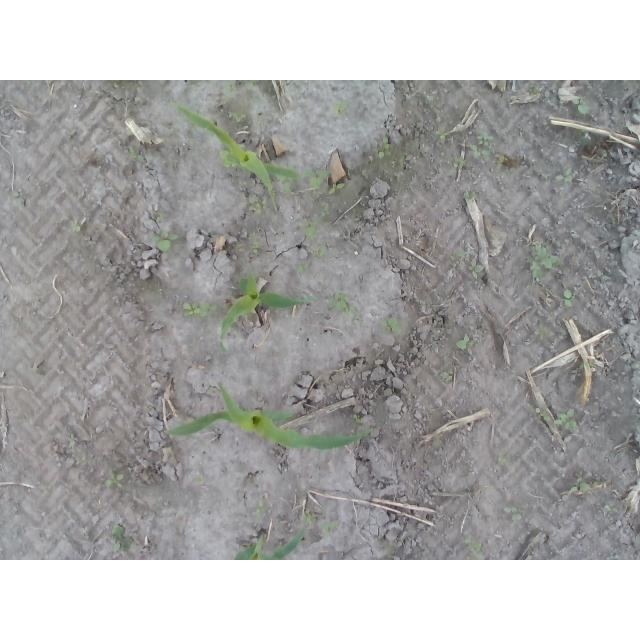Maize: (176, 102, 305, 216), (166, 382, 371, 451), (219, 275, 322, 349), (233, 528, 306, 561)
Weeds: (527, 242, 561, 282), (327, 292, 361, 320), (468, 131, 497, 162), (111, 522, 134, 553), (464, 530, 486, 558), (182, 303, 218, 320), (151, 232, 177, 255), (305, 169, 332, 188), (375, 134, 393, 161), (299, 219, 321, 241), (553, 408, 576, 429), (105, 468, 128, 489), (247, 228, 263, 257), (223, 80, 241, 105), (247, 198, 270, 217), (571, 96, 591, 116), (320, 521, 337, 544), (454, 333, 475, 351), (555, 166, 576, 184), (569, 478, 592, 494), (534, 320, 552, 339), (504, 505, 524, 522), (334, 99, 351, 118), (448, 153, 466, 169), (278, 176, 296, 192), (562, 287, 576, 307), (387, 319, 402, 336), (469, 263, 483, 281), (302, 511, 318, 526), (228, 111, 248, 123), (128, 147, 145, 161), (11, 190, 25, 206), (319, 204, 331, 222), (256, 500, 266, 520), (244, 80, 256, 96), (431, 129, 449, 139), (328, 183, 344, 194), (67, 432, 77, 449), (463, 191, 478, 202), (529, 85, 544, 96), (312, 247, 326, 258), (155, 212, 166, 223), (605, 504, 619, 512), (295, 262, 305, 273), (454, 248, 466, 257), (71, 223, 81, 233), (352, 415, 361, 425), (600, 152, 609, 161), (196, 474, 204, 482), (544, 415, 553, 422), (587, 361, 594, 368), (236, 240, 240, 251)
